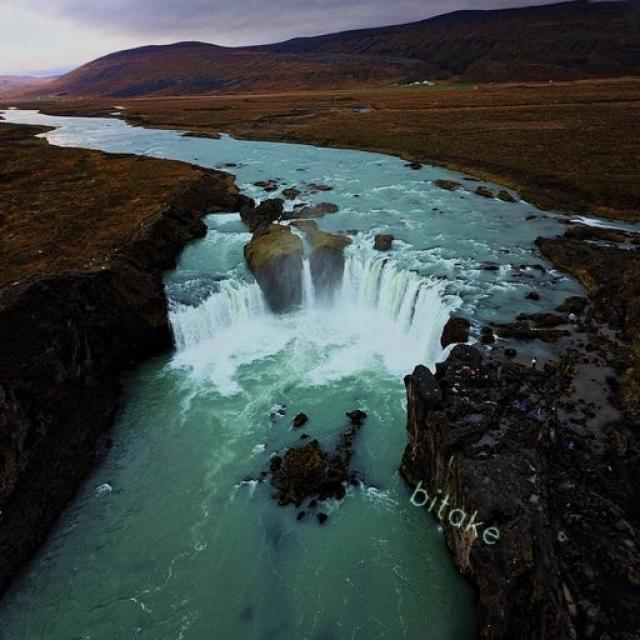watermark: (398, 473, 519, 552)
